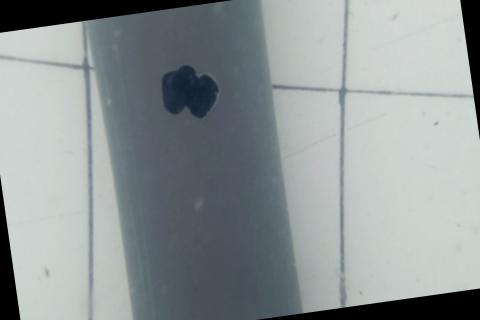kebocoran: (157, 57, 222, 122)
